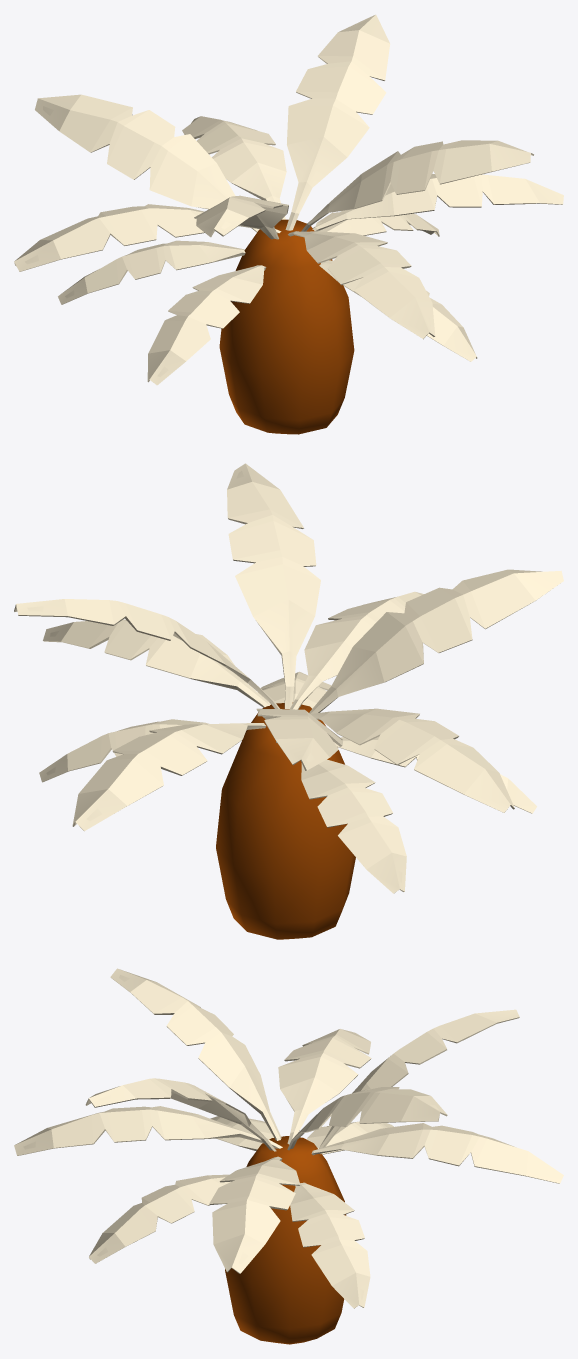
File: Tree_13_Winter.fbx
The picture shows the model from 3 angles, top to bottom: view 1: azimuth 30°, elevation 25°; view 2: azimuth 150°, elevation 25°; view 3: azimuth 270°, elevation 25°; orthographic projection. The views are drawn at different scales.
Visible parts, largest first — view 1: Tree_13_p2_Winter, Tree_13_p1_Winter; view 2: Tree_13_p2_Winter, Tree_13_p1_Winter; view 3: Tree_13_p2_Winter, Tree_13_p1_Winter.
Boxes of the visible parts, <box> form: Tree_13_p2_Winter: <box>14,14,563,385</box>; Tree_13_p1_Winter: <box>219,219,354,434</box>; Tree_13_p2_Winter: <box>14,463,563,893</box>; Tree_13_p1_Winter: <box>216,702,355,939</box>; Tree_13_p2_Winter: <box>14,968,563,1308</box>; Tree_13_p1_Winter: <box>225,1136,346,1344</box>.
Bounding box in the file's own units: 508 × 314 × 515.
